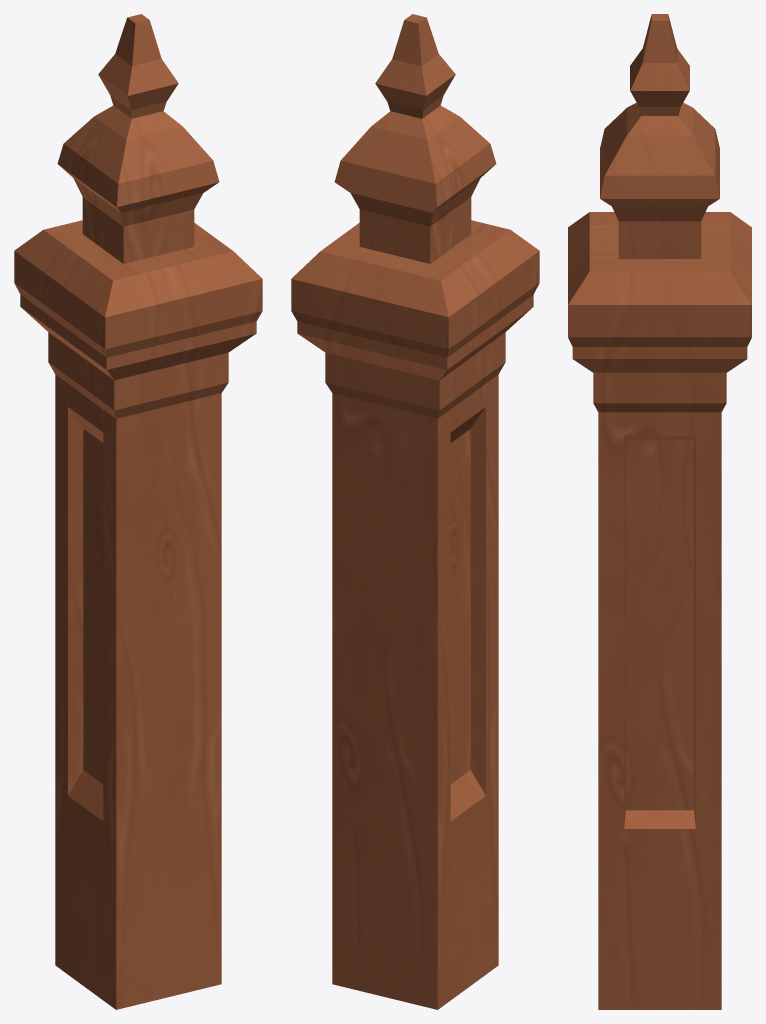
The model's file is StationFramePillar_A_001.fbx.
3 renders of one model, left to right at view 1: azimuth 30°, elevation 25°; view 2: azimuth 150°, elevation 25°; view 3: azimuth 270°, elevation 25°, orthographic.
Parts seen in each view (by area): view 1: StationFramePillar_A_001; view 2: StationFramePillar_A_001; view 3: StationFramePillar_A_001.
Boxes of the visible parts, x1,y1,x2,y2 form: StationFramePillar_A_001: (14,14,262,1009); StationFramePillar_A_001: (291,14,539,1009); StationFramePillar_A_001: (568,14,751,1009).
Bounding box in the file's own units: 17.82 × 103 × 17.82.
Materials: 1 (1 with a texture image).
